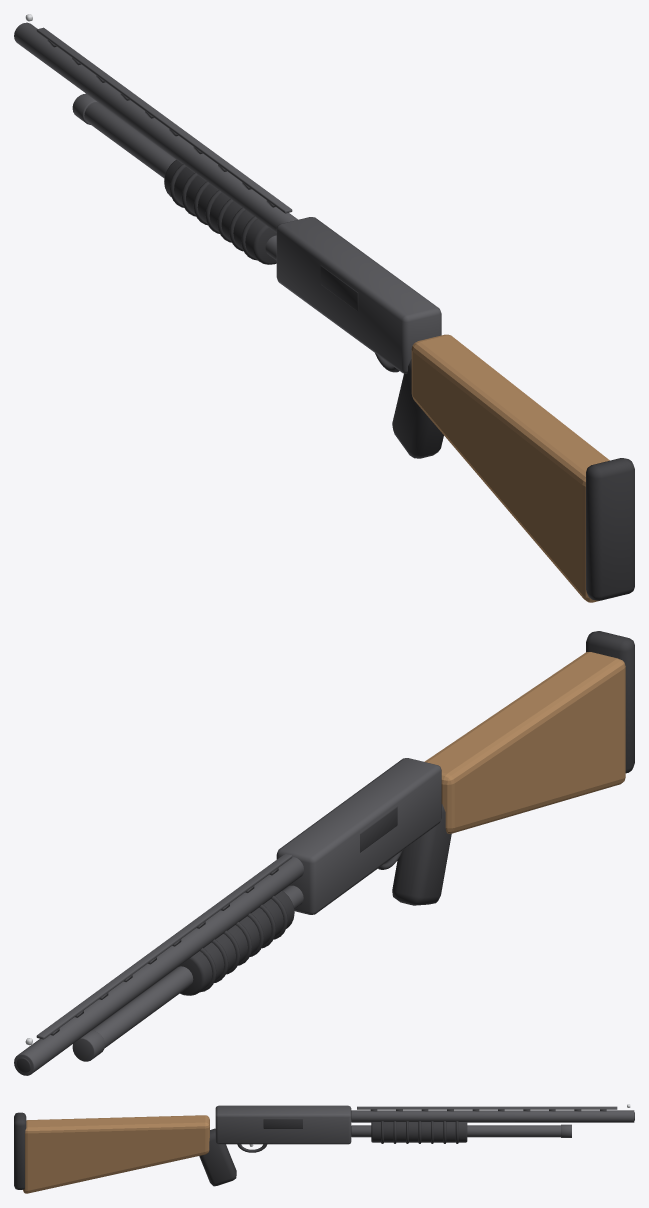
File: gun_shotgun.glb
The picture shows the model from 3 angles, top to bottom: view 1: azimuth 30°, elevation 25°; view 2: azimuth 150°, elevation 25°; view 3: azimuth 270°, elevation 25°; orthographic projection. The views are drawn at different scales.
Visible parts, largest first — view 1: gun_shotgun; view 2: gun_shotgun; view 3: gun_shotgun.
Boxes of the visible parts, bbox=[...] form: gun_shotgun: bbox=[14, 14, 634, 602]; gun_shotgun: bbox=[14, 631, 634, 1075]; gun_shotgun: bbox=[14, 1104, 634, 1193].
Bounding box in the file's own units: 0.0492 × 0.1661 × 1.1.
